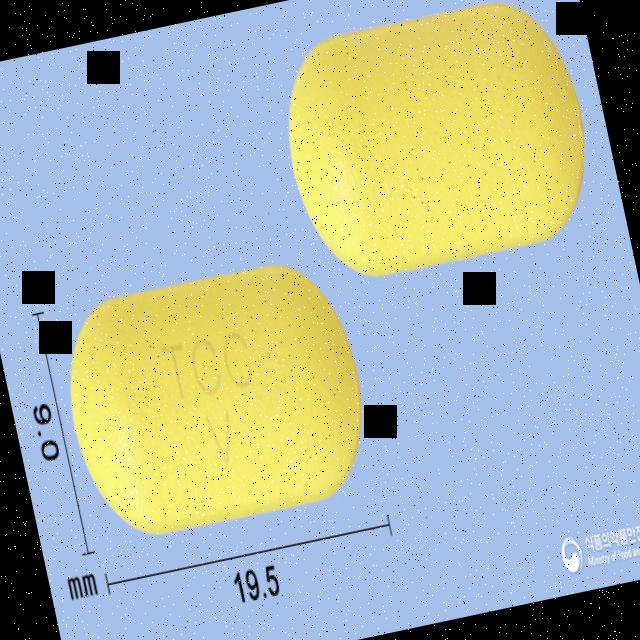Clycin: (49, 248, 382, 548)
